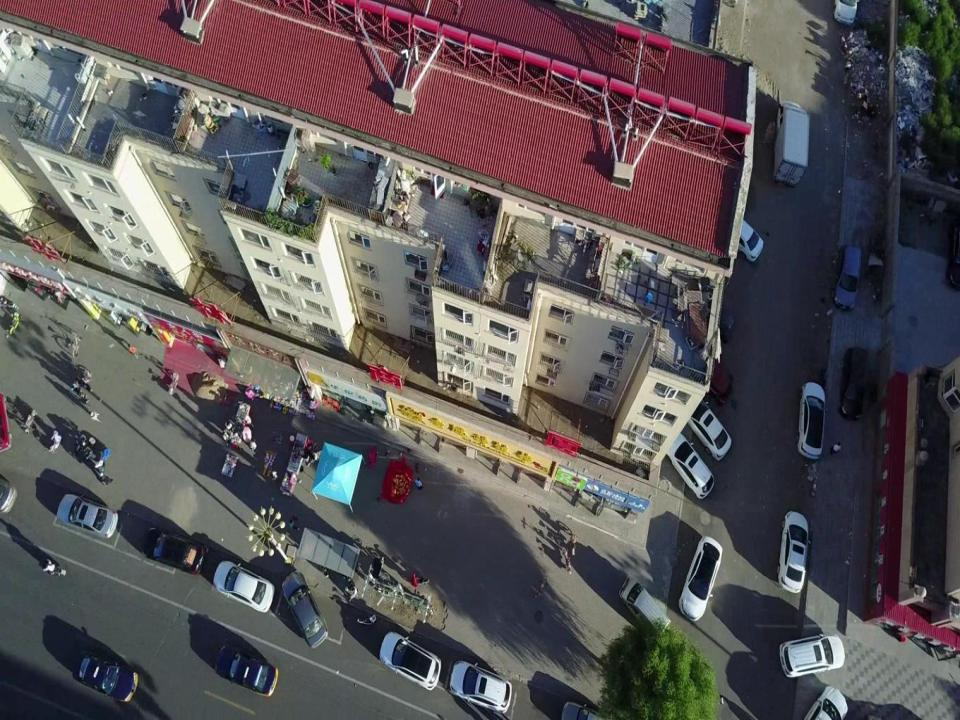car: (282, 570, 328, 650), (678, 537, 721, 621), (380, 630, 440, 690), (664, 431, 715, 499), (449, 659, 511, 714), (214, 644, 278, 697), (74, 650, 138, 703), (212, 561, 274, 614), (142, 526, 207, 575), (683, 394, 731, 459), (780, 634, 845, 678), (56, 492, 118, 538), (776, 509, 810, 592), (716, 210, 764, 262), (796, 380, 826, 460), (833, 242, 861, 311), (802, 683, 848, 720), (559, 699, 618, 720), (0, 474, 19, 514), (833, 0, 859, 25)
truck: (774, 100, 808, 186)
van: (619, 575, 672, 637), (839, 344, 870, 422)
